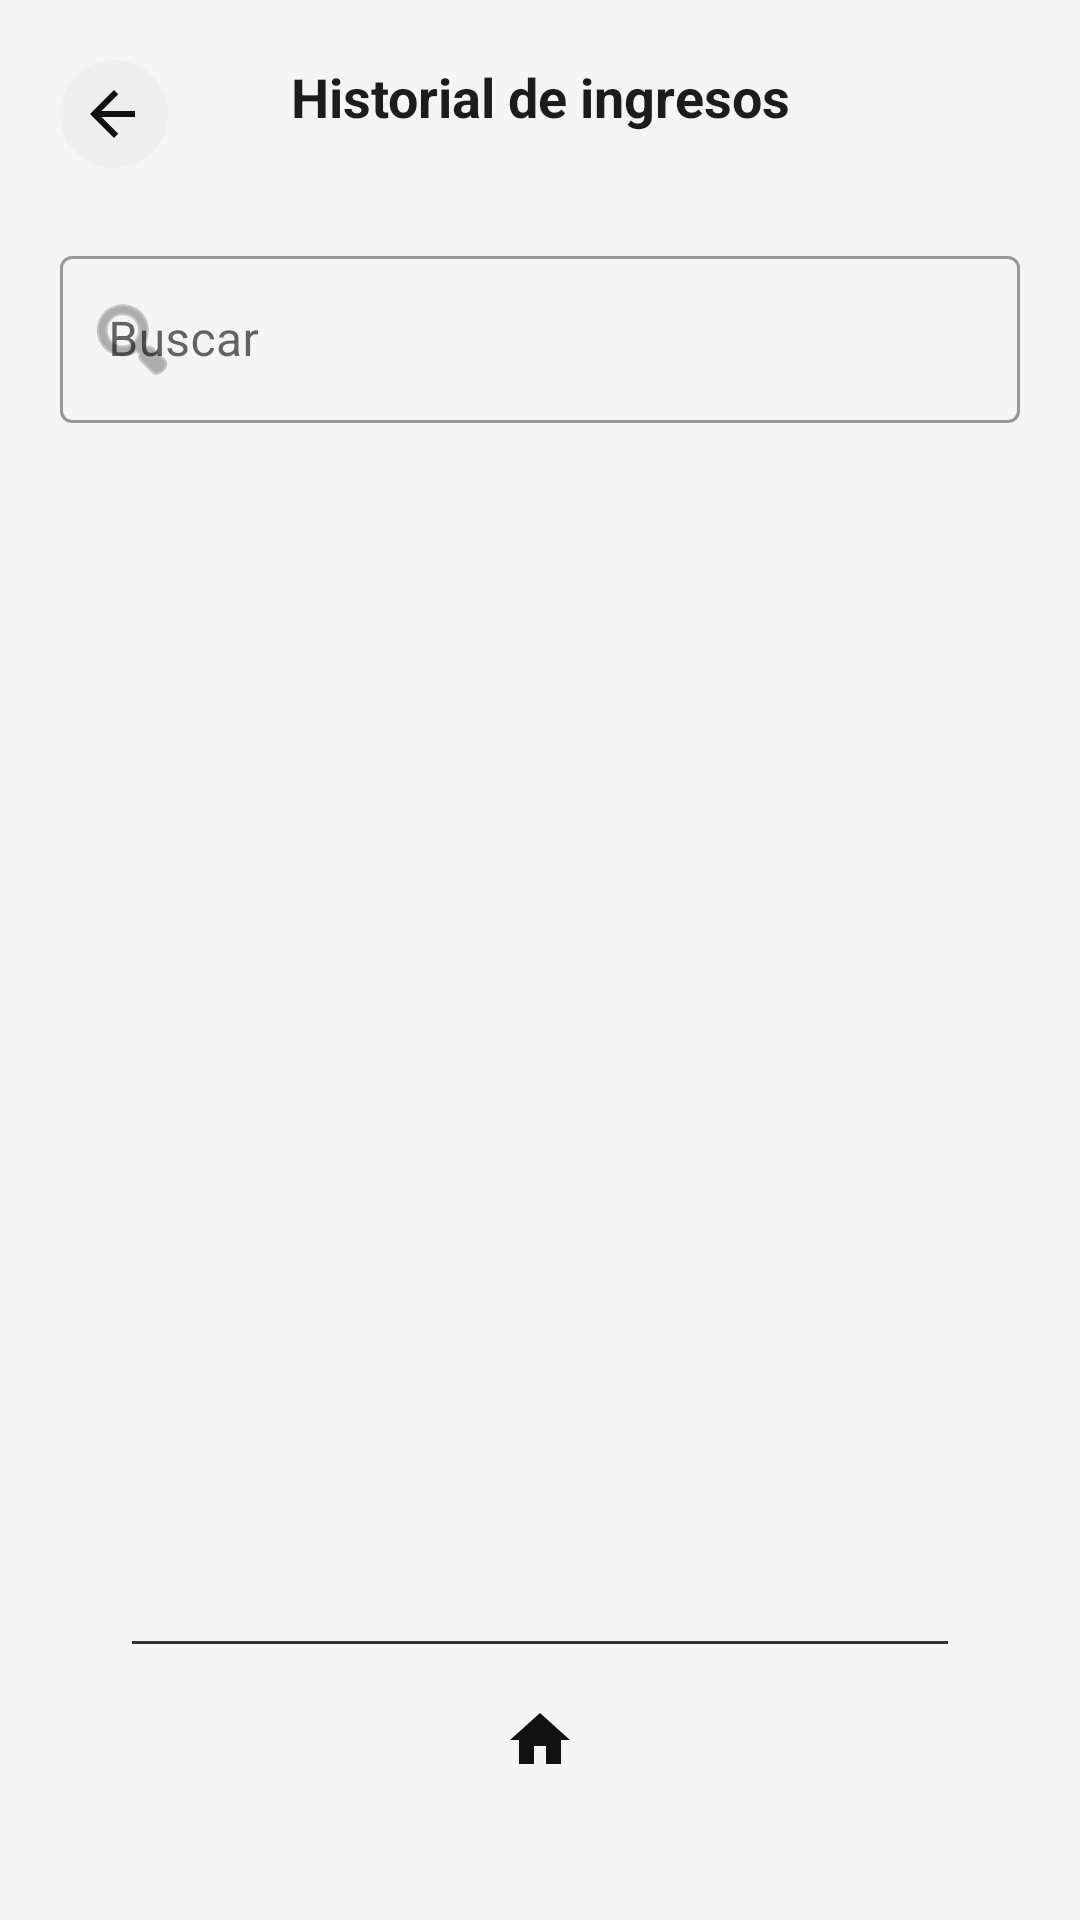

Screen size 1080 × 1920. Icon name, then its box in pixels as rect(x1, y1, x2, y2):
back: rect(90, 90, 135, 138)
home: rect(510, 1713, 570, 1764)
